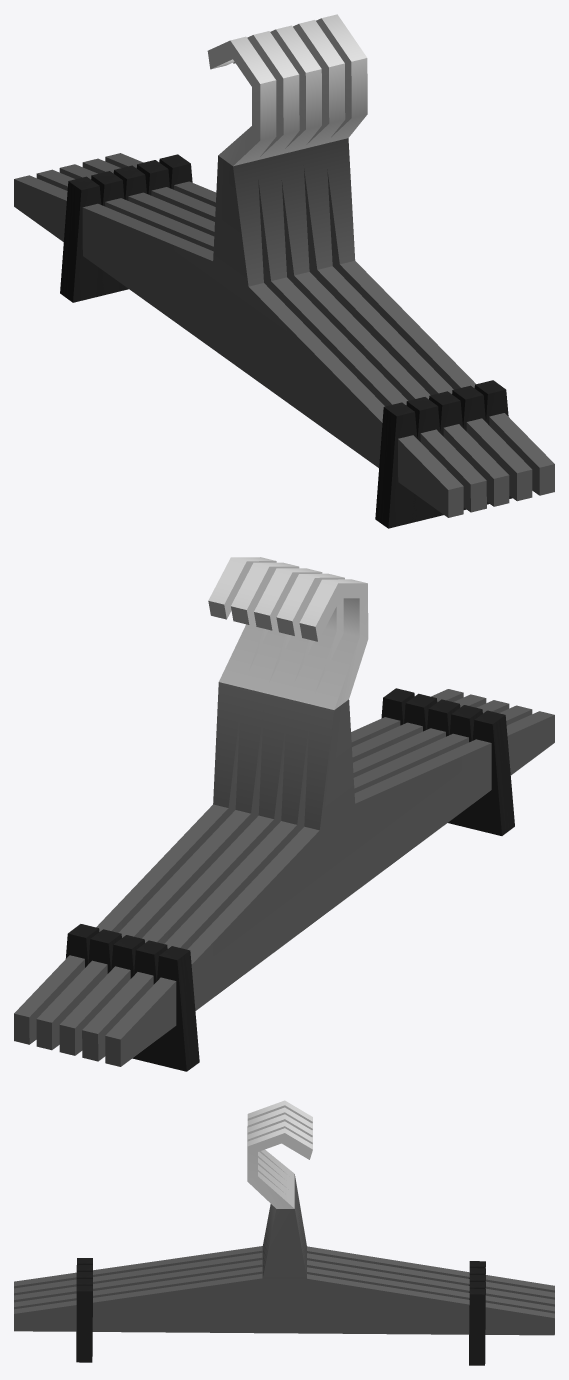
The model's file is shop_050.glb.
3 renders of one model, top to bottom at view 1: azimuth 30°, elevation 25°; view 2: azimuth 150°, elevation 25°; view 3: azimuth 270°, elevation 25°, orthographic. The views are drawn at different scales.
Parts seen in each view (by area): view 1: shop_050; view 2: shop_050; view 3: shop_050.
Part boxes in pixels (bbox=[...]): shop_050: bbox=[14, 14, 554, 528]; shop_050: bbox=[14, 557, 554, 1071]; shop_050: bbox=[14, 1100, 554, 1365].
Bounding box in the file's own units: 0.0672 × 0.1857 × 0.3969.
Materials: 1 (1 with a texture image).
